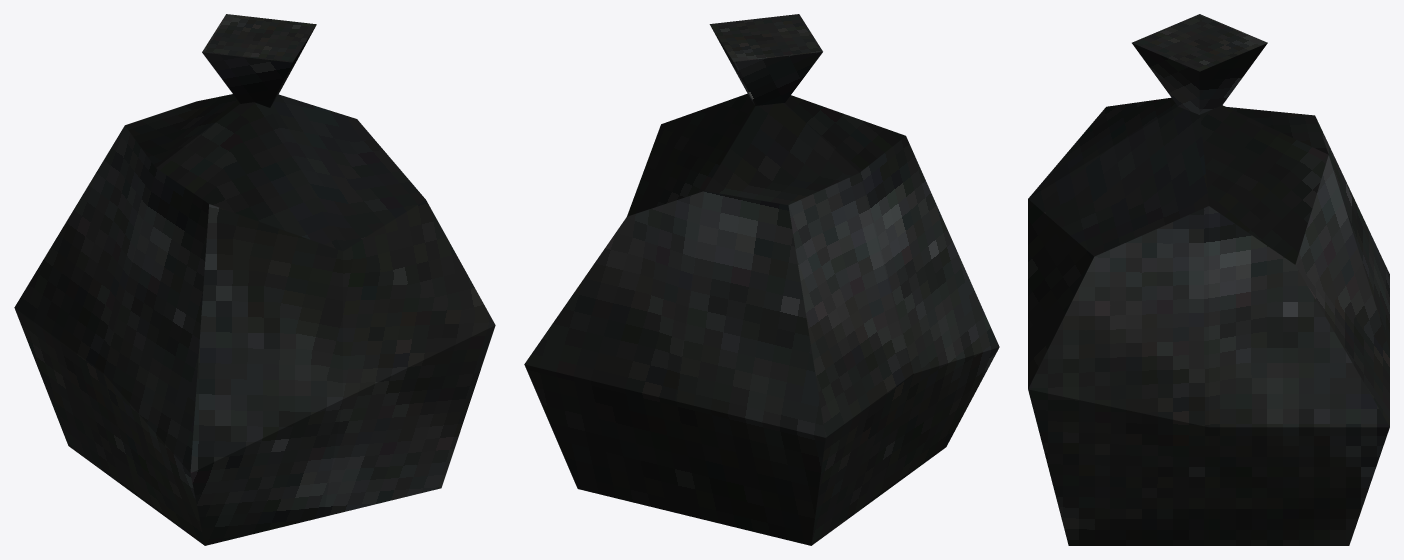
File: garbage.glb
3 views of the same model, side by side, from view 1: azimuth 30°, elevation 25°; view 2: azimuth 150°, elevation 25°; view 3: azimuth 270°, elevation 25° (orthographic). The views are drawn at different scales.
Parts seen in each view (by area): view 1: Cube; view 2: Cube; view 3: Cube.
Boxes of the visible parts, <box> form: Cube: <box>14,14,495,545</box>; Cube: <box>524,14,999,545</box>; Cube: <box>1028,14,1389,545</box>.
Size of the model in its own units: 1.53 by 2.19 by 1.53.
Materials: 1 (1 with a texture image).
